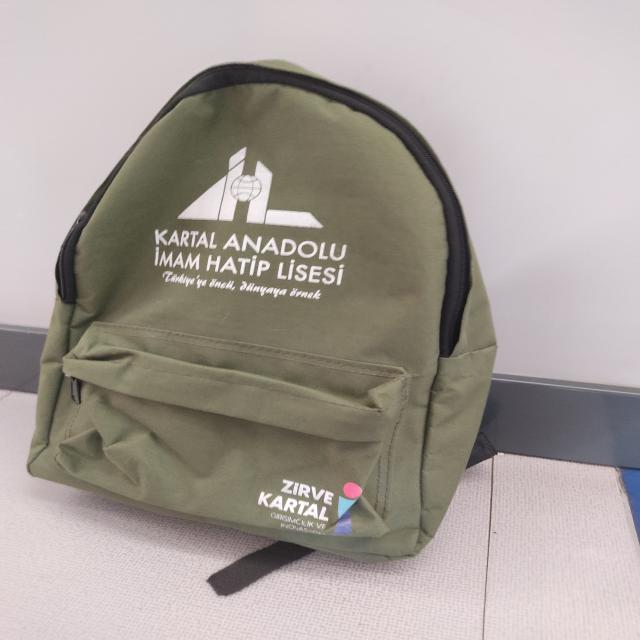bag: (33, 51, 498, 562)
